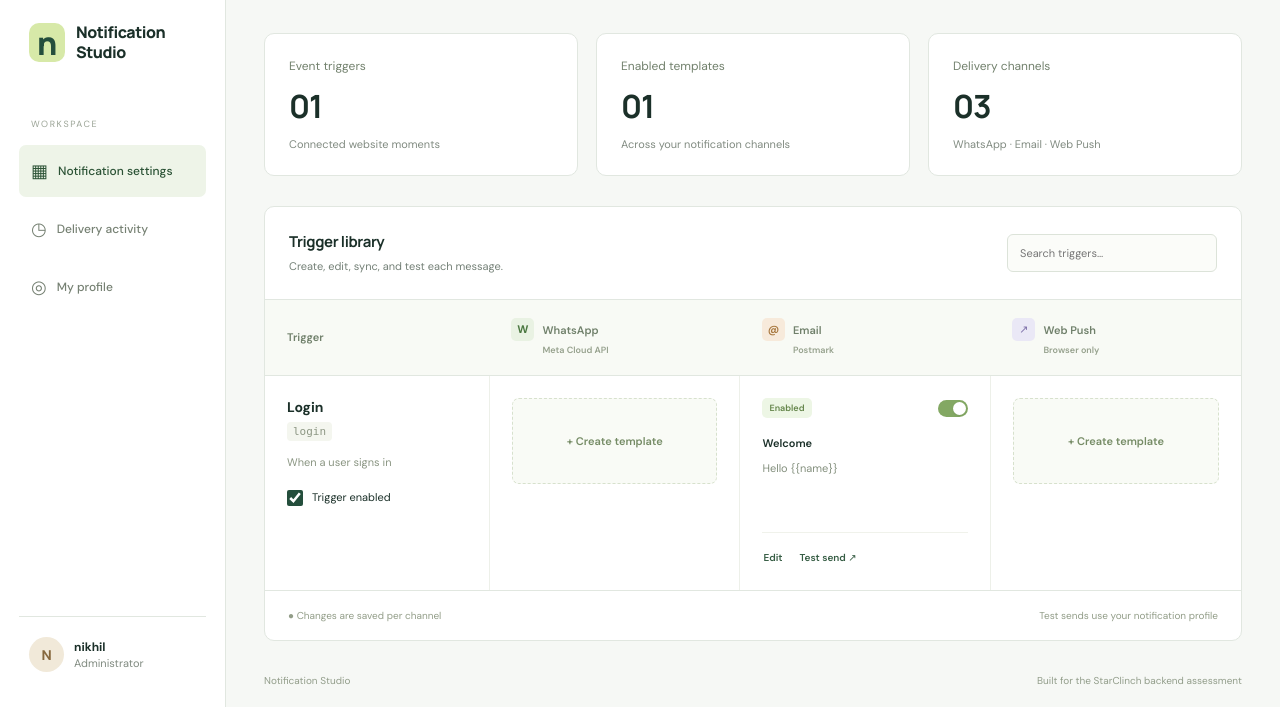
notification console › shows actionable backend errors
(page scrolled)
Expected: the switch is shown, [938,400,968,417]
Click the button "Test send ↗". click: (828, 558)
box: [799,547,858,568]
(page scrolled)
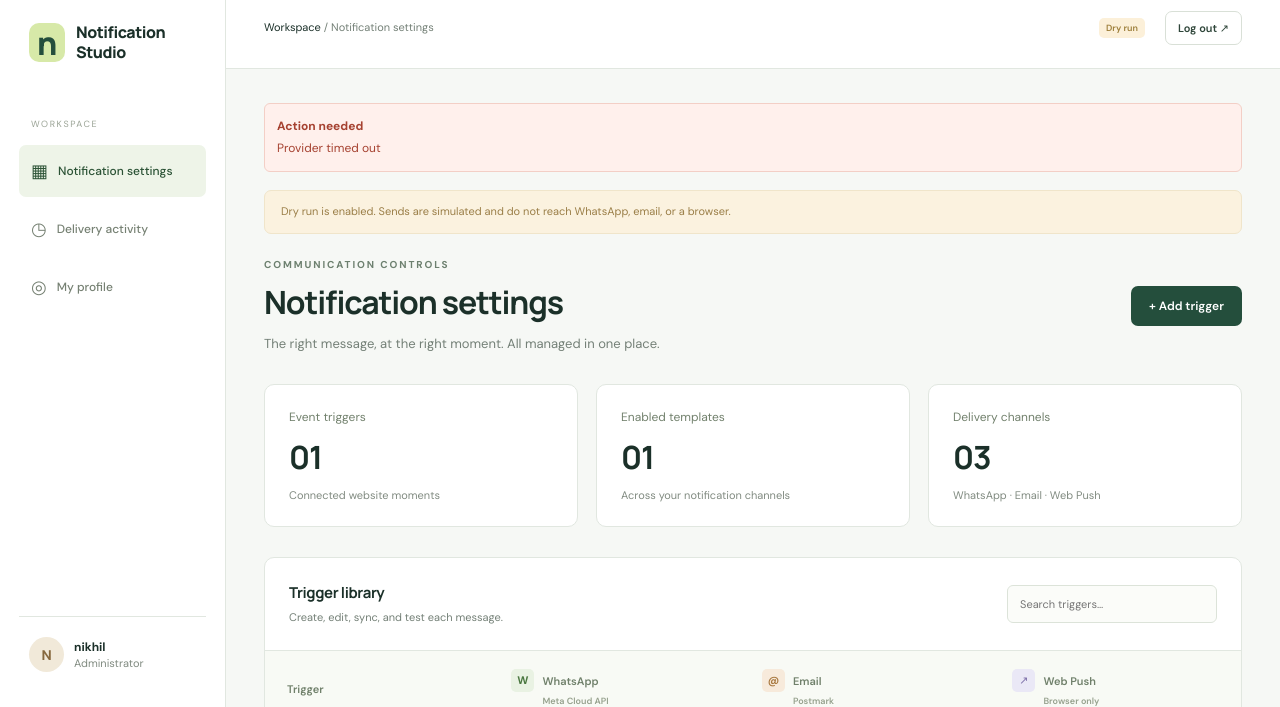
Result: the message shows "Provider timed out" at [277,140,381,156]
